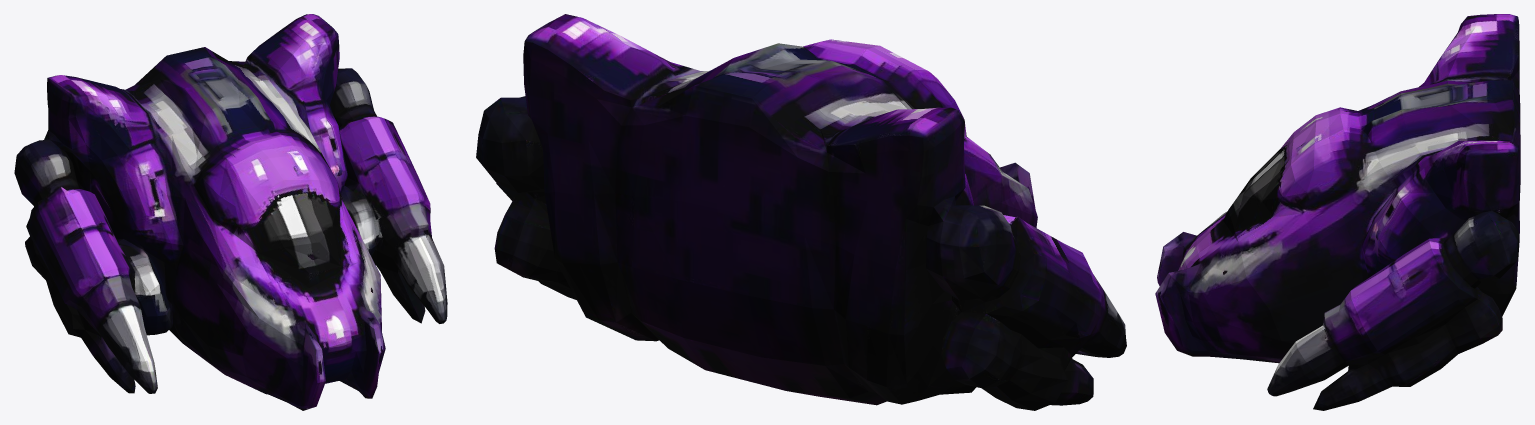
Rendered from cougar-ship.glb.
3 views of the same model, side by side, from view 1: azimuth 30°, elevation 25°; view 2: azimuth 150°, elevation 25°; view 3: azimuth 270°, elevation 25° (orthographic). The views are drawn at different scales.
Visible parts, largest first — view 1: tripo_node_3fe8c063-91d1-429a-af0f-6d9eae1e19fb; view 2: tripo_node_3fe8c063-91d1-429a-af0f-6d9eae1e19fb; view 3: tripo_node_3fe8c063-91d1-429a-af0f-6d9eae1e19fb.
Part boxes in pixels (x1,y1,x2,y2): tripo_node_3fe8c063-91d1-429a-af0f-6d9eae1e19fb: (14,14,447,410); tripo_node_3fe8c063-91d1-429a-af0f-6d9eae1e19fb: (476,14,1126,410); tripo_node_3fe8c063-91d1-429a-af0f-6d9eae1e19fb: (1155,14,1520,410).
Bounding box in the file's own units: 0.9975 × 0.6592 × 0.8363.
1 material, 1 textured.
